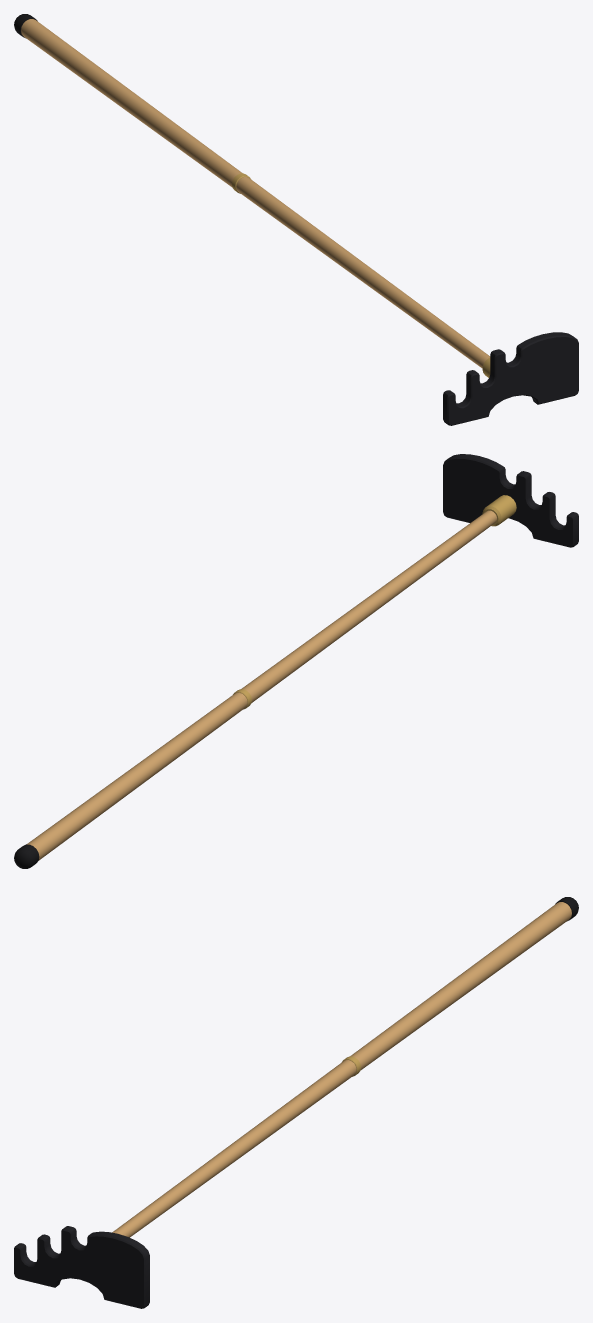
The model's file is BridgeModel.fbx.
3 renders of one model, top to bottom at view 1: azimuth 30°, elevation 25°; view 2: azimuth 150°, elevation 25°; view 3: azimuth 330°, elevation 25°, orthographic.
Parts seen in each view (by area): view 1: Shaft, Head; view 2: Shaft, Head, Ferrule; view 3: Shaft, Head.
Boxes of the visible parts, bbox=[...] form: Shaft: bbox=[21, 19, 490, 368]; Head: bbox=[443, 332, 578, 425]; Shaft: bbox=[26, 510, 496, 860]; Head: bbox=[443, 454, 578, 547]; Ferrule: bbox=[233, 495, 516, 709]; Shaft: bbox=[112, 902, 571, 1237]; Head: bbox=[14, 1226, 149, 1308].
Size of the model in its own units: 0.96 by 0.455 by 6.23.
